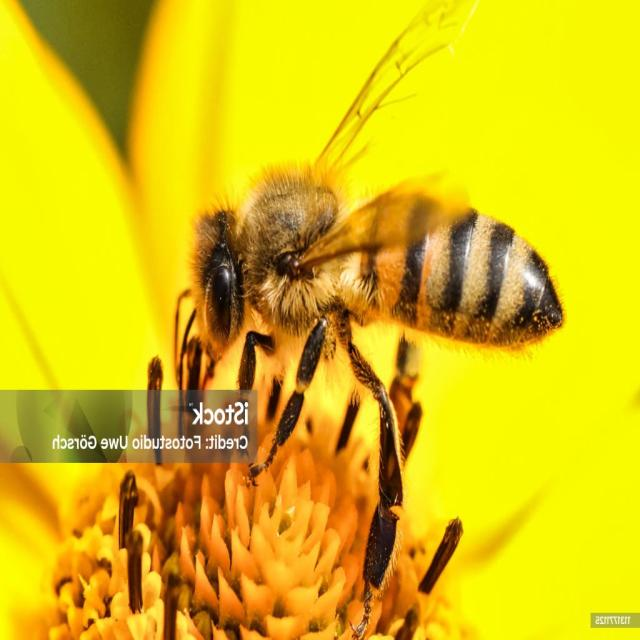bees: (171, 1, 567, 640)
